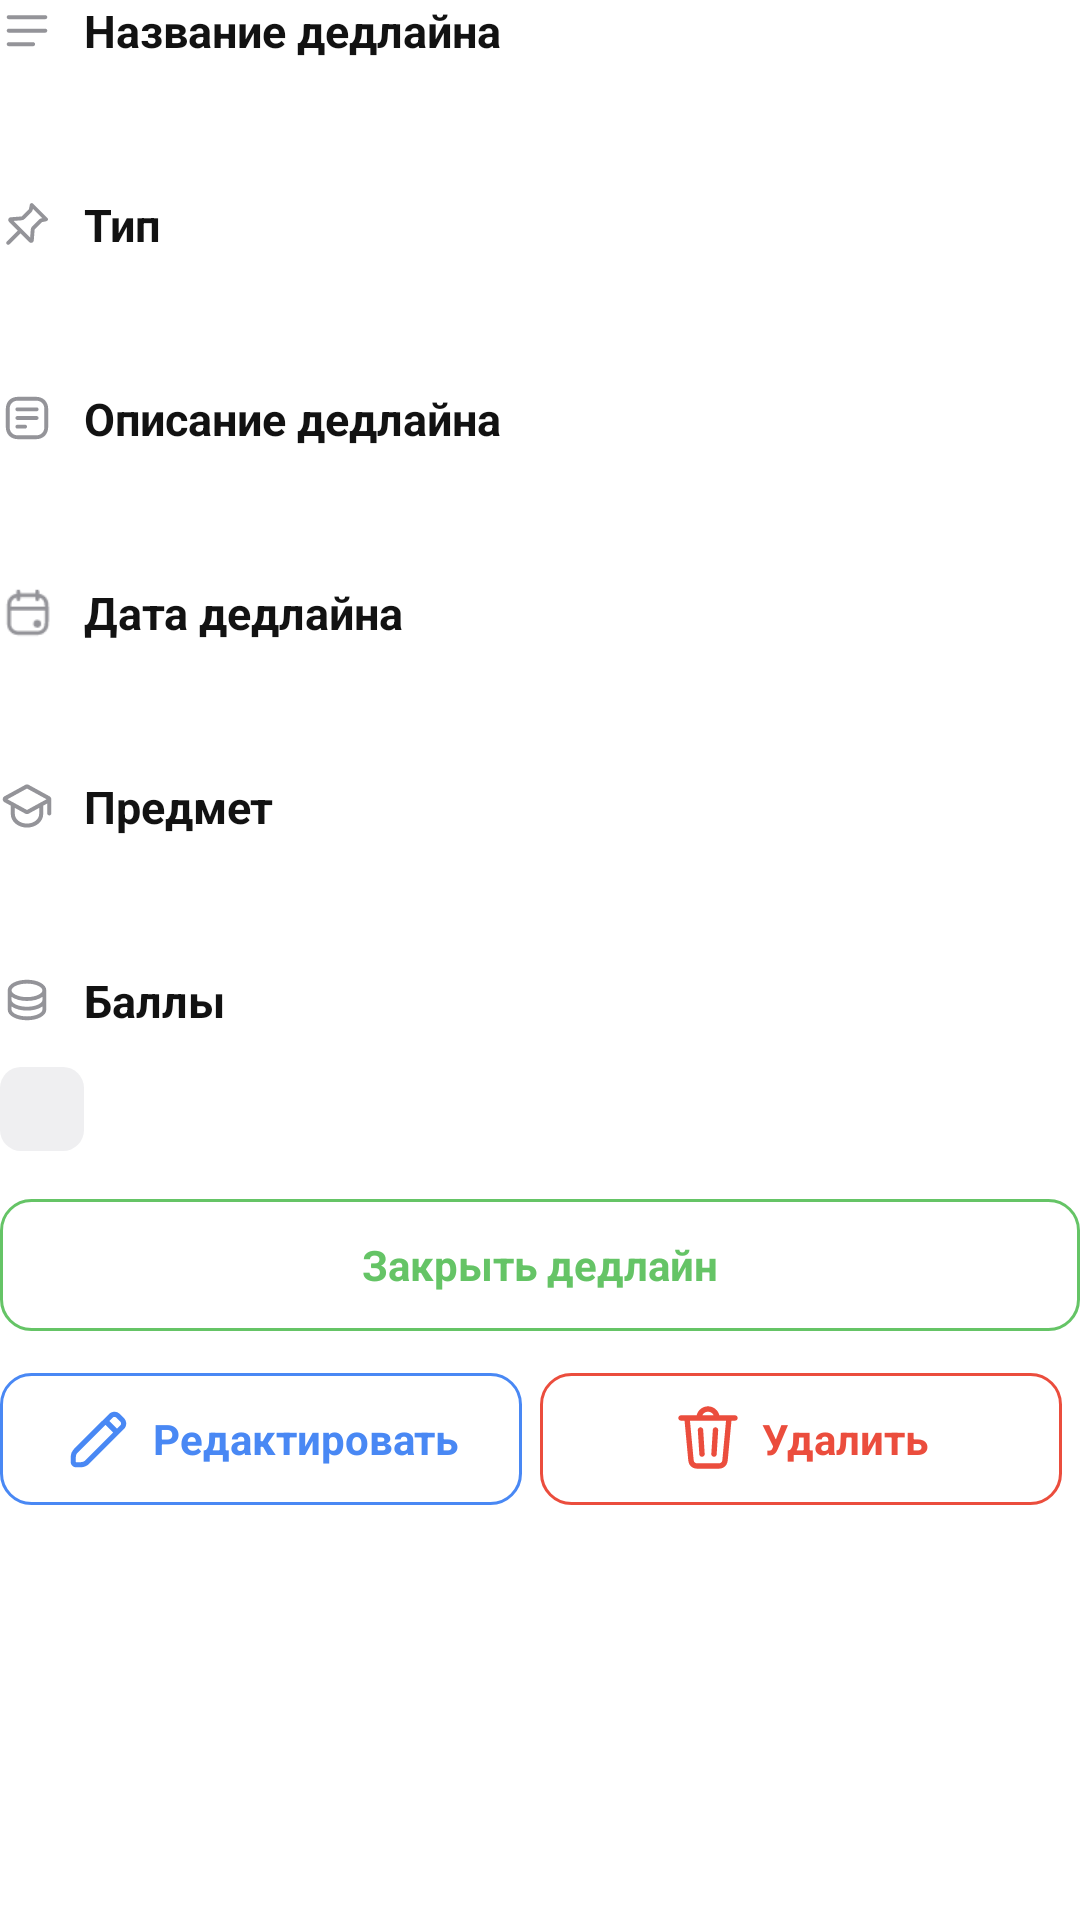

Locate icon controls on the screen. Image size 1080 × 1920, boxes as [x1=x1, y1=y1, x2=x2, y2=y2].
academic cap: [x1=2, y1=784, x2=52, y2=828]
coins: [x1=7, y1=979, x2=47, y2=1021]
pencil: [x1=70, y1=1411, x2=127, y2=1468]
pin: [x1=6, y1=203, x2=48, y2=245]
trash: [x1=678, y1=1406, x2=738, y2=1469]
